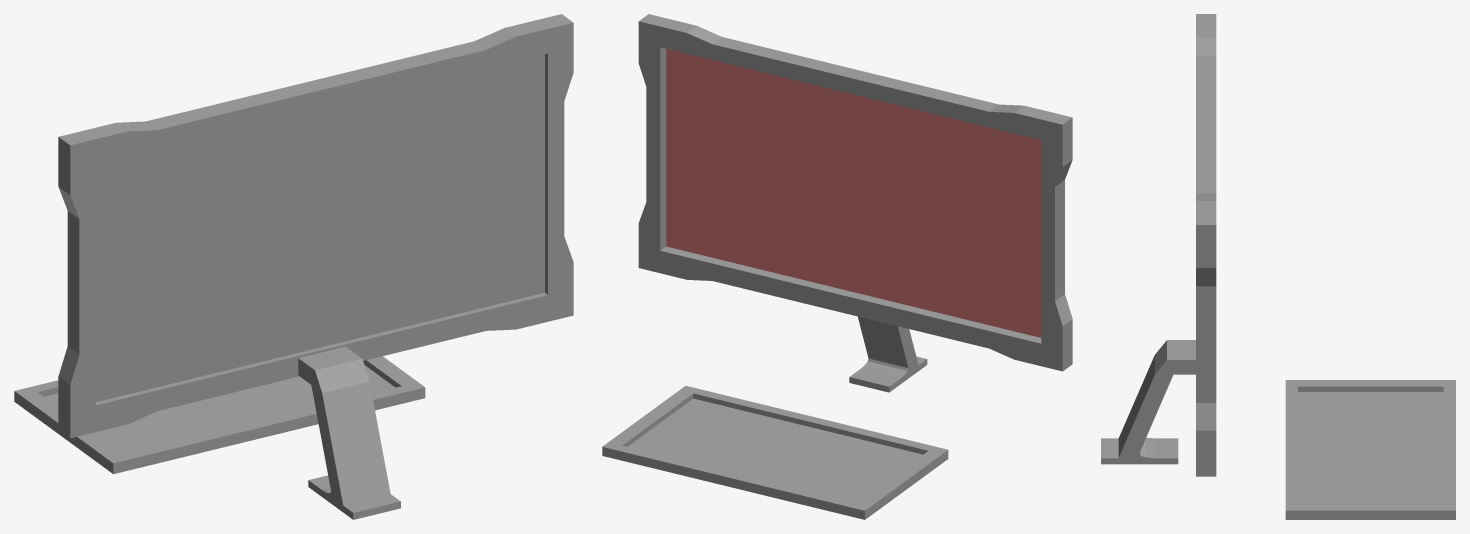
The model's file is Computer-red.fbx.
The picture shows the model from 3 angles, left to right: view 1: azimuth 30°, elevation 25°; view 2: azimuth 150°, elevation 25°; view 3: azimuth 270°, elevation 25°; orthographic projection. The views are drawn at different scales.
Visible parts, largest first — view 1: monitor, keyboard; view 2: monitor, keyboard; view 3: keyboard, monitor.
Boxes of the visible parts, box(x1,y1,x2,y2) form: monitor: box(58, 14, 573, 519); keyboard: box(14, 356, 425, 474); monitor: box(638, 14, 1072, 392); keyboard: box(602, 385, 948, 519); keyboard: box(1285, 380, 1455, 519); monitor: box(1101, 14, 1216, 476).
Bounding box in the file's own units: 587 × 435 × 417.
